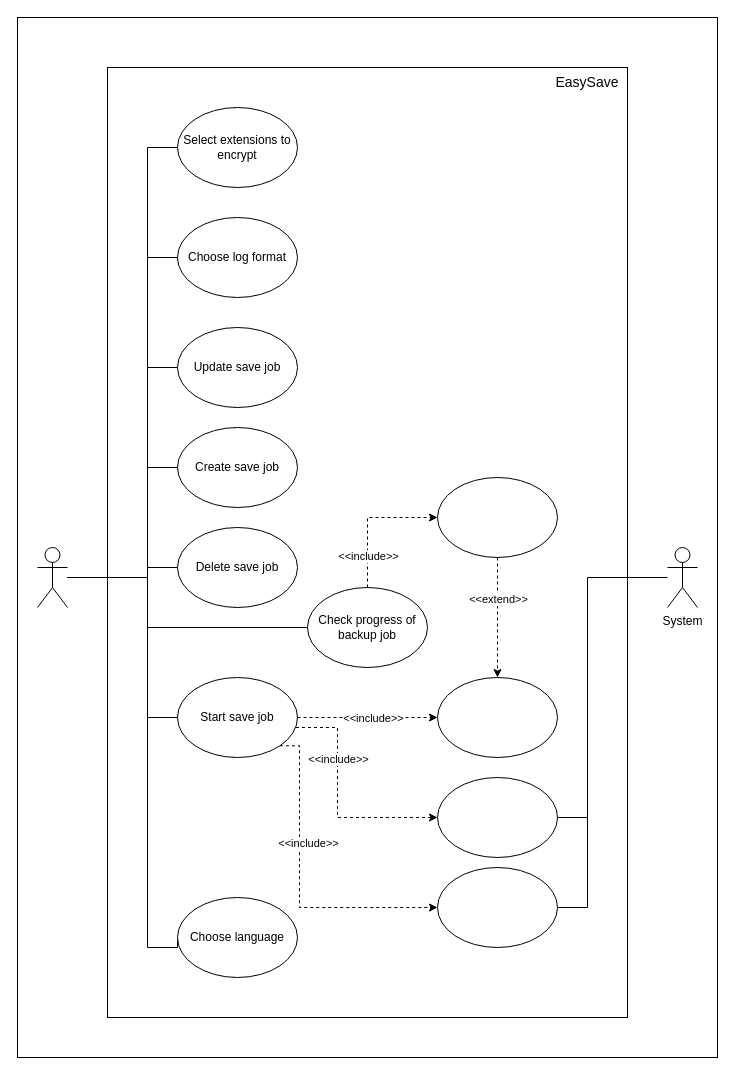
The diagram is 735 pixels wide and 1075 high, and some of its shapes have lost their labels. The shapes that lost their labels are listed below. From the top down, each one's centre as x and y in pixels, then its label:
point 497,517: Access logs
point 52,577: User
point 497,717: Write logs
point 497,817: Save data
point 497,907: Encrypt selected files (extensions)
